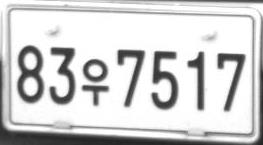1: (184, 51, 212, 111)
3: (48, 47, 76, 104)
5: (150, 50, 179, 110)
7: (217, 53, 246, 111), (117, 48, 145, 107)
8: (16, 44, 44, 104)
우: (81, 58, 109, 106)
